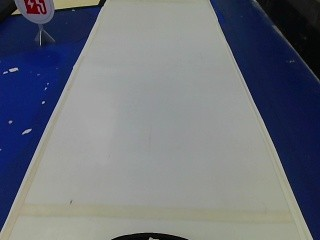battery: (10, 0, 60, 22)
